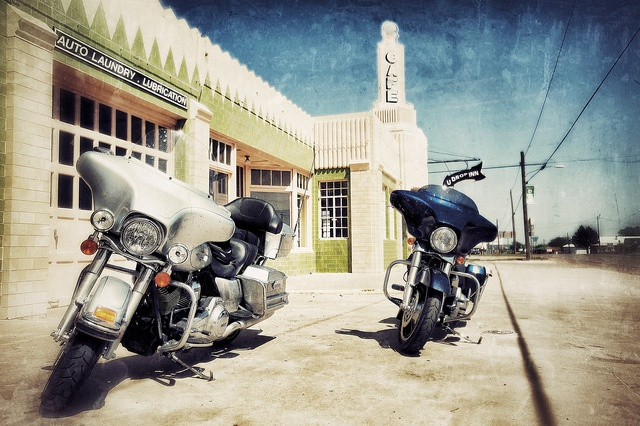non-vehicle: (39, 127, 295, 414), (381, 182, 497, 353)
